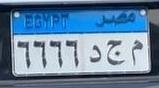6: (65, 38, 82, 68), (32, 38, 48, 69), (16, 39, 31, 71), (49, 39, 63, 70)
daal: (87, 43, 103, 66)
jeem: (106, 38, 127, 67)
meem: (129, 39, 143, 69)
